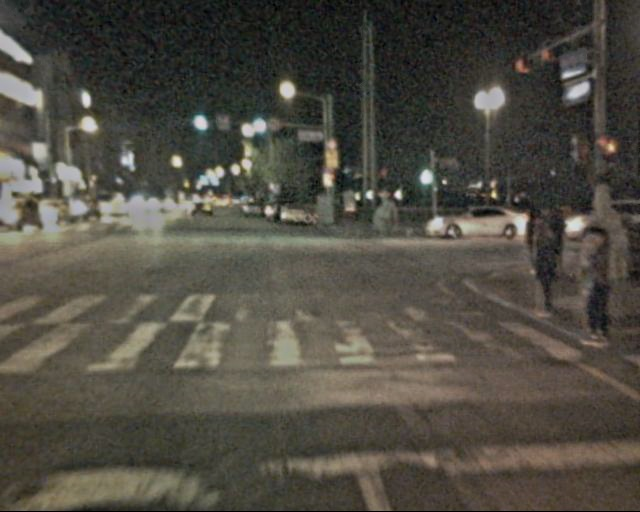person: (515, 209, 569, 320), (568, 227, 616, 344)
